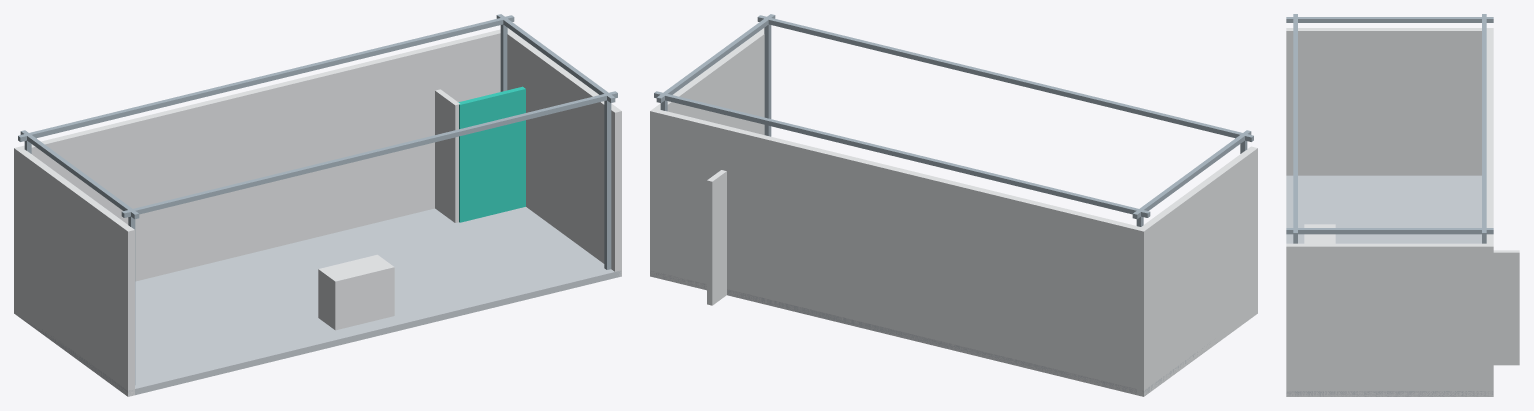
3 renders of one model, left to right at view 1: azimuth 30°, elevation 25°; view 2: azimuth 150°, elevation 25°; view 3: azimuth 270°, elevation 25°, orthographic. The views are drawn at different scales.
Parts seen in each view (by area): view 1: Exhibition Booth Concept; view 2: Exhibition Booth Concept; view 3: Exhibition Booth Concept.
Boxes of the visible parts, x1=… form: Exhibition Booth Concept: x1=14, y1=14, x2=621, y2=396; Exhibition Booth Concept: x1=650, y1=14, x2=1257, y2=396; Exhibition Booth Concept: x1=1286, y1=14, x2=1519, y2=396.
Bounding box in the file's own units: 10 × 3.49 × 4.51.
